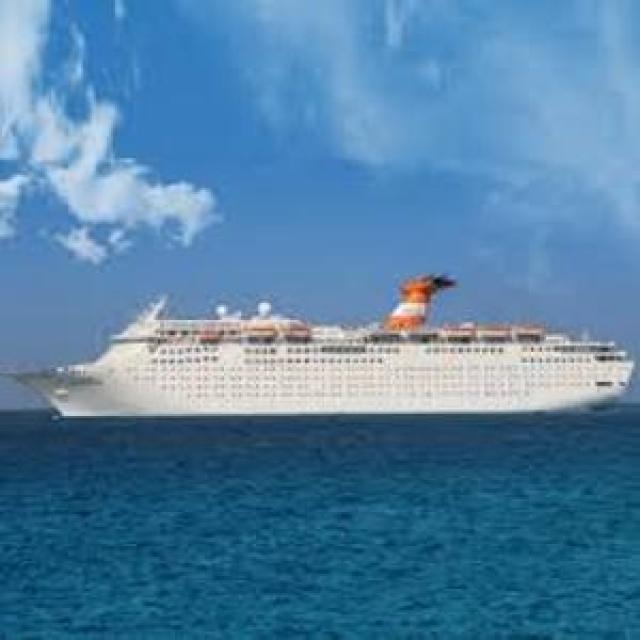passenger ship: (0, 273, 634, 422)
